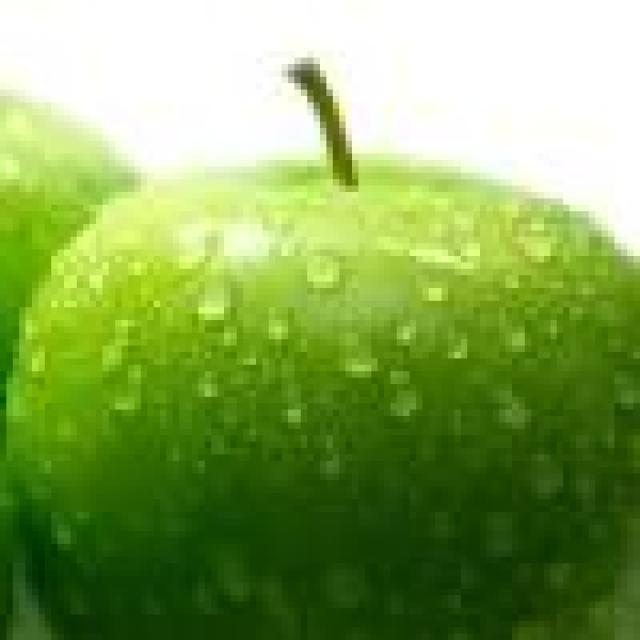apple: (0, 169, 639, 639)
